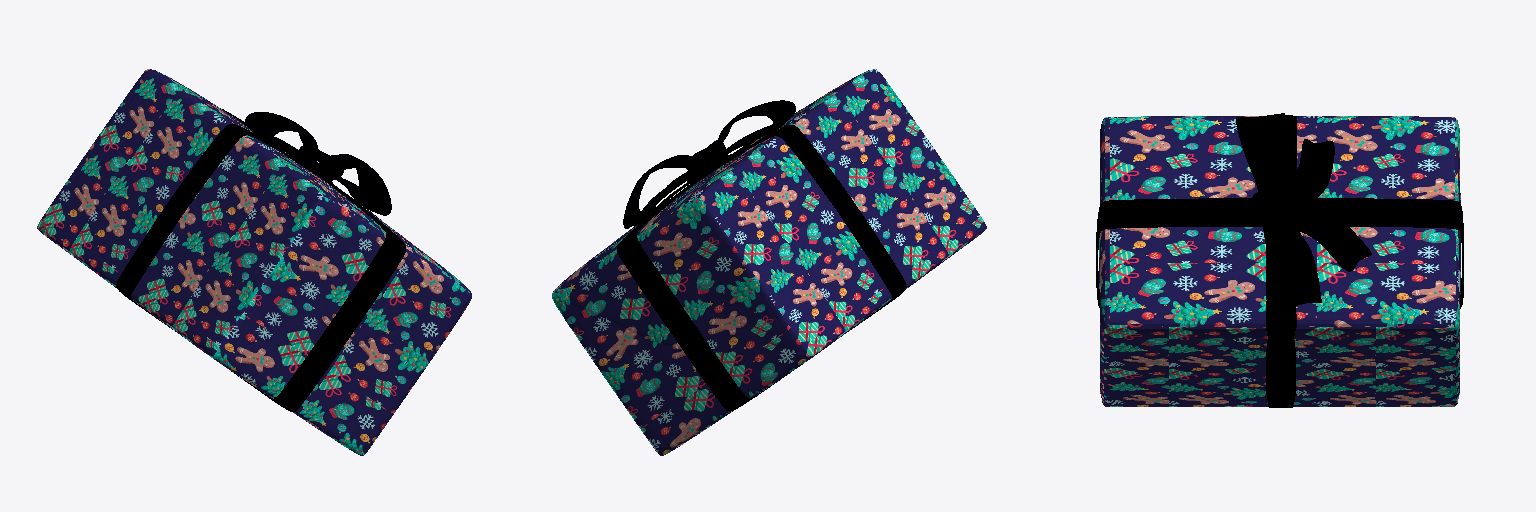
3 views of the same model, side by side, from view 1: azimuth 30°, elevation 25°; view 2: azimuth 150°, elevation 25°; view 3: azimuth 270°, elevation 25° (orthographic).
Parts seen in each view (by area): view 1: gift_box; view 2: gift_box; view 3: gift_box.
Boxes of the visible parts, x1=… form: gift_box: x1=37, y1=69, x2=471, y2=455; gift_box: x1=552, y1=69, x2=986, y2=455; gift_box: x1=1096, y1=113, x2=1463, y2=407.
Bounding box in the file's own units: 1.51 × 1.54 × 1.82.
Materials: 2 (1 with a texture image).